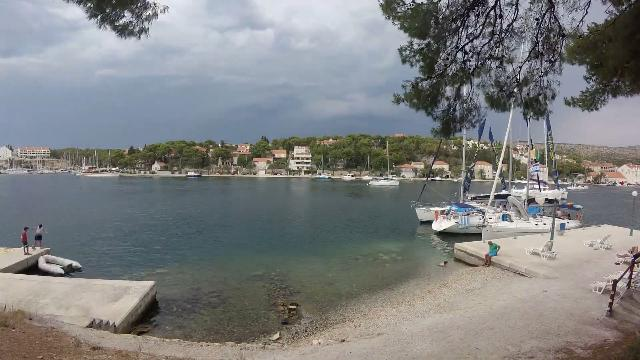Sailboat: (363, 175, 409, 187)
